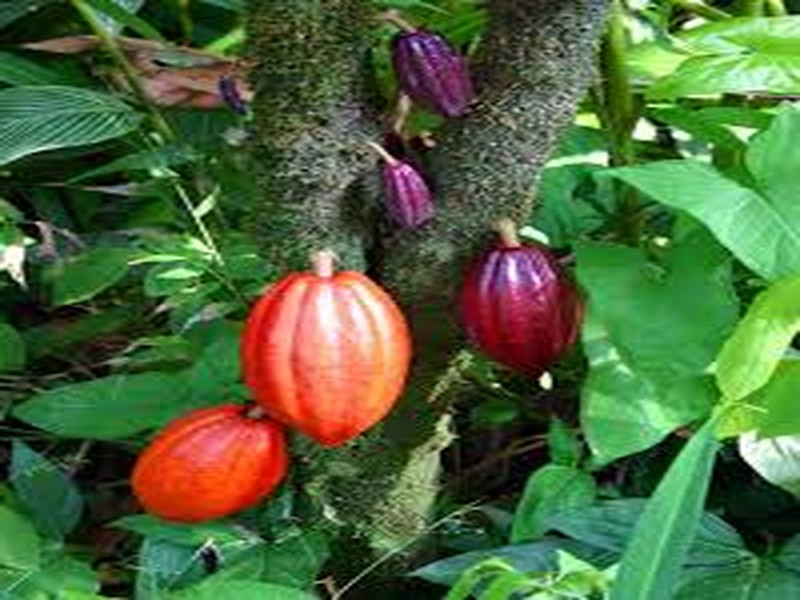Cacaopod: (238, 266, 412, 440)
